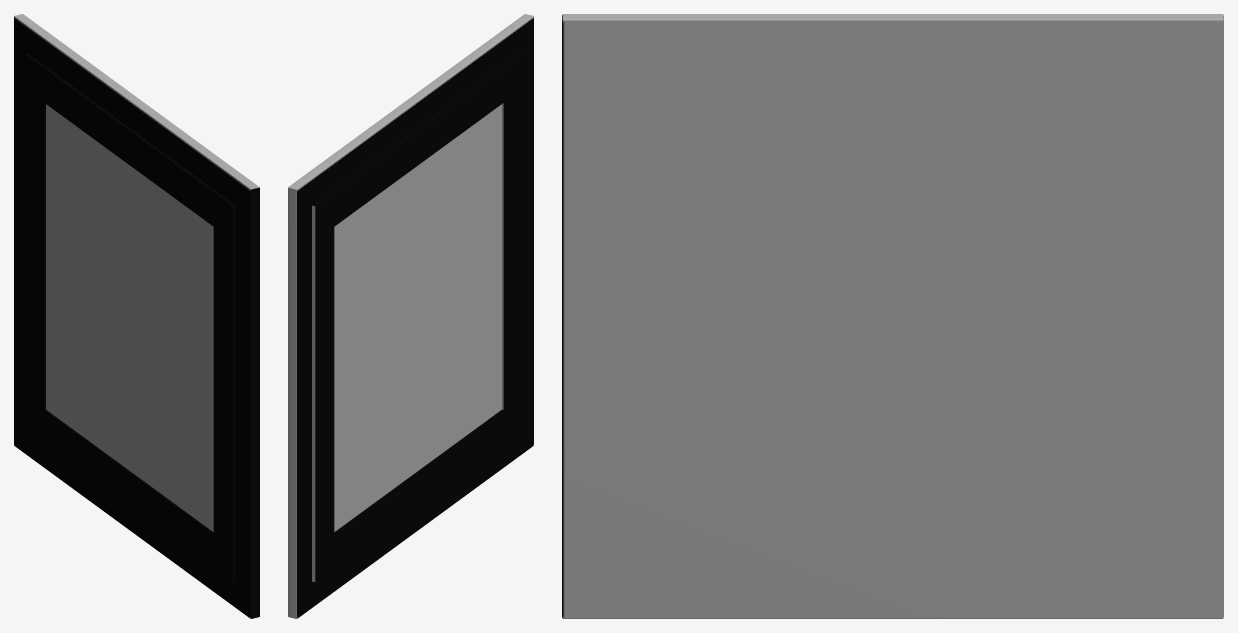
Rendered from HorizontalPhotoFrame.fbx.
The picture shows the model from 3 angles, left to right: view 1: azimuth 30°, elevation 25°; view 2: azimuth 150°, elevation 25°; view 3: azimuth 270°, elevation 25°; orthographic projection. The views are drawn at different scales.
Parts seen in each view (by area): view 1: PhotoFramehorizontal_high; view 2: PhotoFramehorizontal_high; view 3: PhotoFramehorizontal_high.
Part boxes in pixels (x1,y1,x2,y2): PhotoFramehorizontal_high: (14,14,259,618); PhotoFramehorizontal_high: (288,14,533,618); PhotoFramehorizontal_high: (562,14,1223,618).
Size of the model in its own units: 2.81 by 91.43 by 91.43.
Materials: 1 (1 with a texture image).
